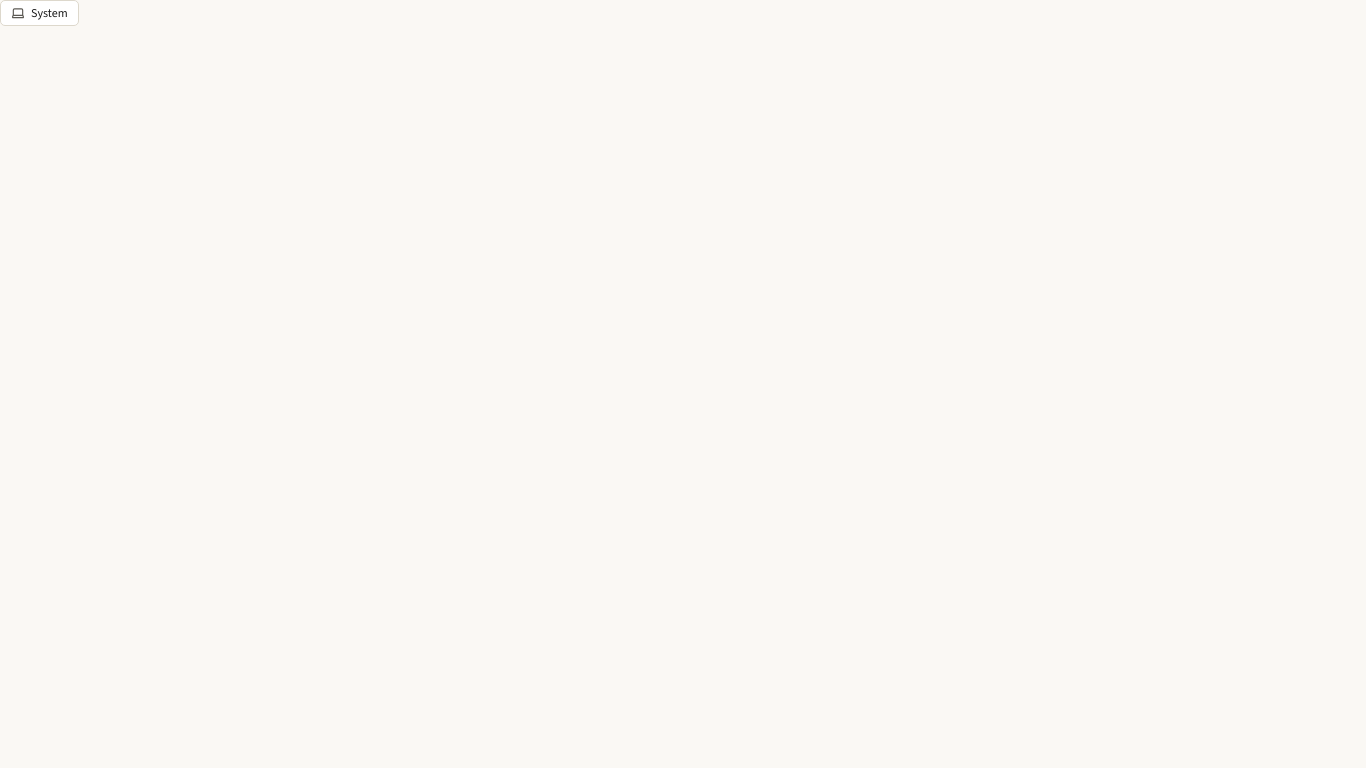
Test: Theme System › cycles themes on click and updates localStorage and document attributes
This screenshot has width=1366, height=768.
Click the button with aria-label "theme:": (39, 13) [0,0,79,26]
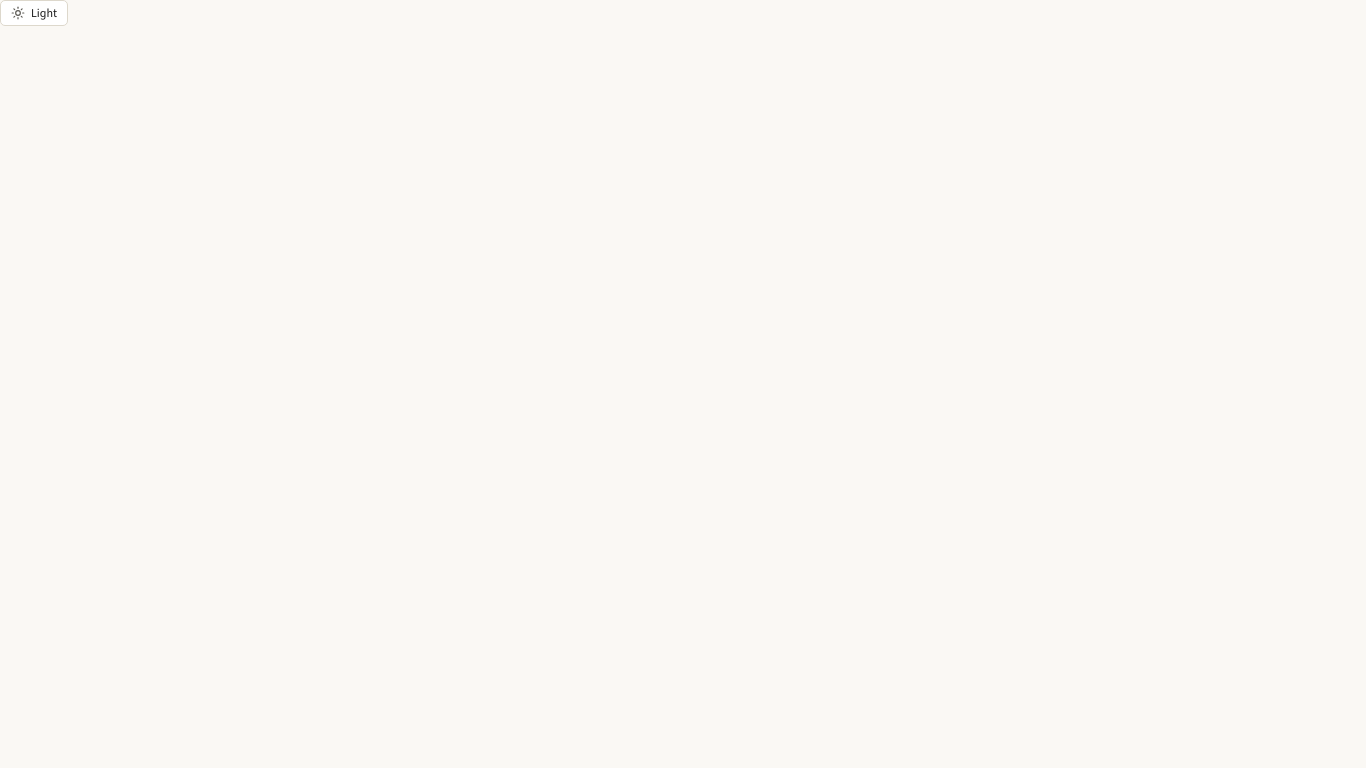
Expected: the text "light" is shown, [31,5,57,21]
Click again switches to dark
Click the button with aria-label "theme:": (34, 13) [0,0,68,26]
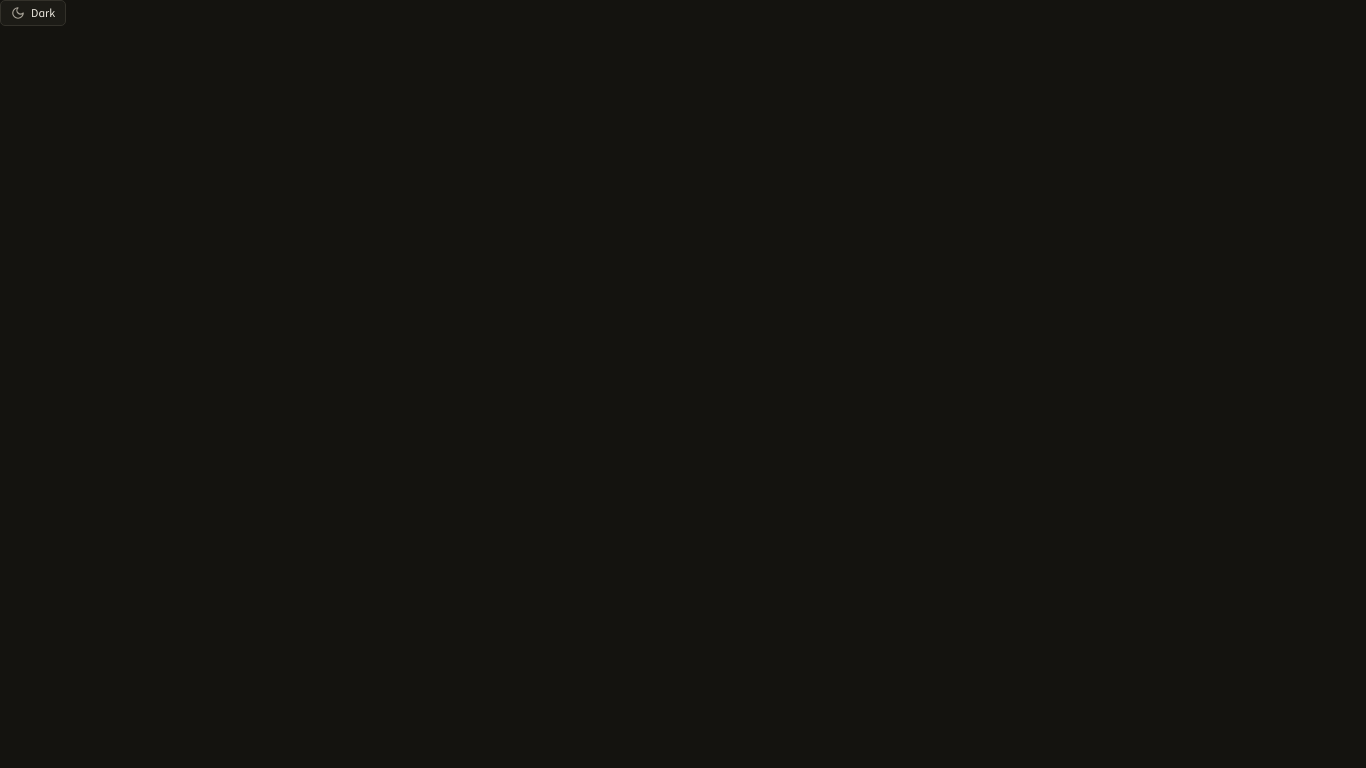
Expected: the text "dark" is shown, [31,5,55,21]
